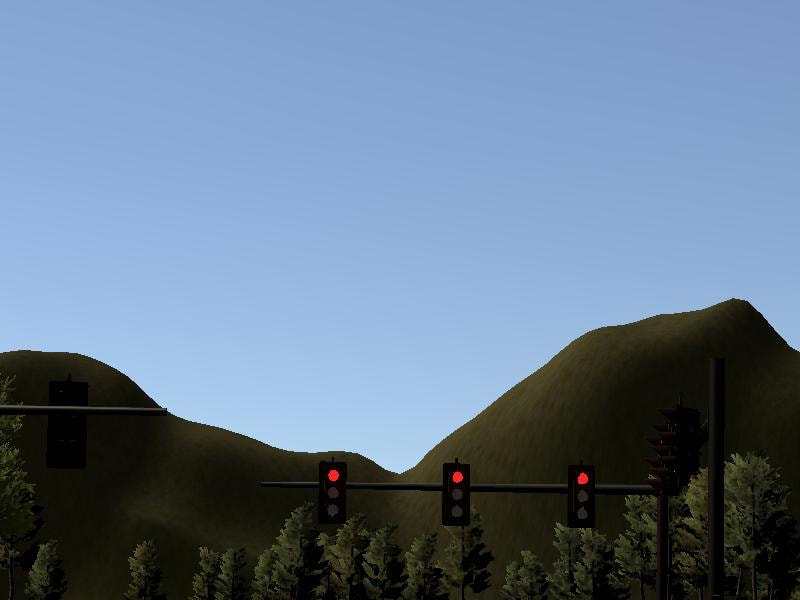red: (318, 461, 346, 525), (442, 463, 470, 527), (569, 463, 597, 527)
